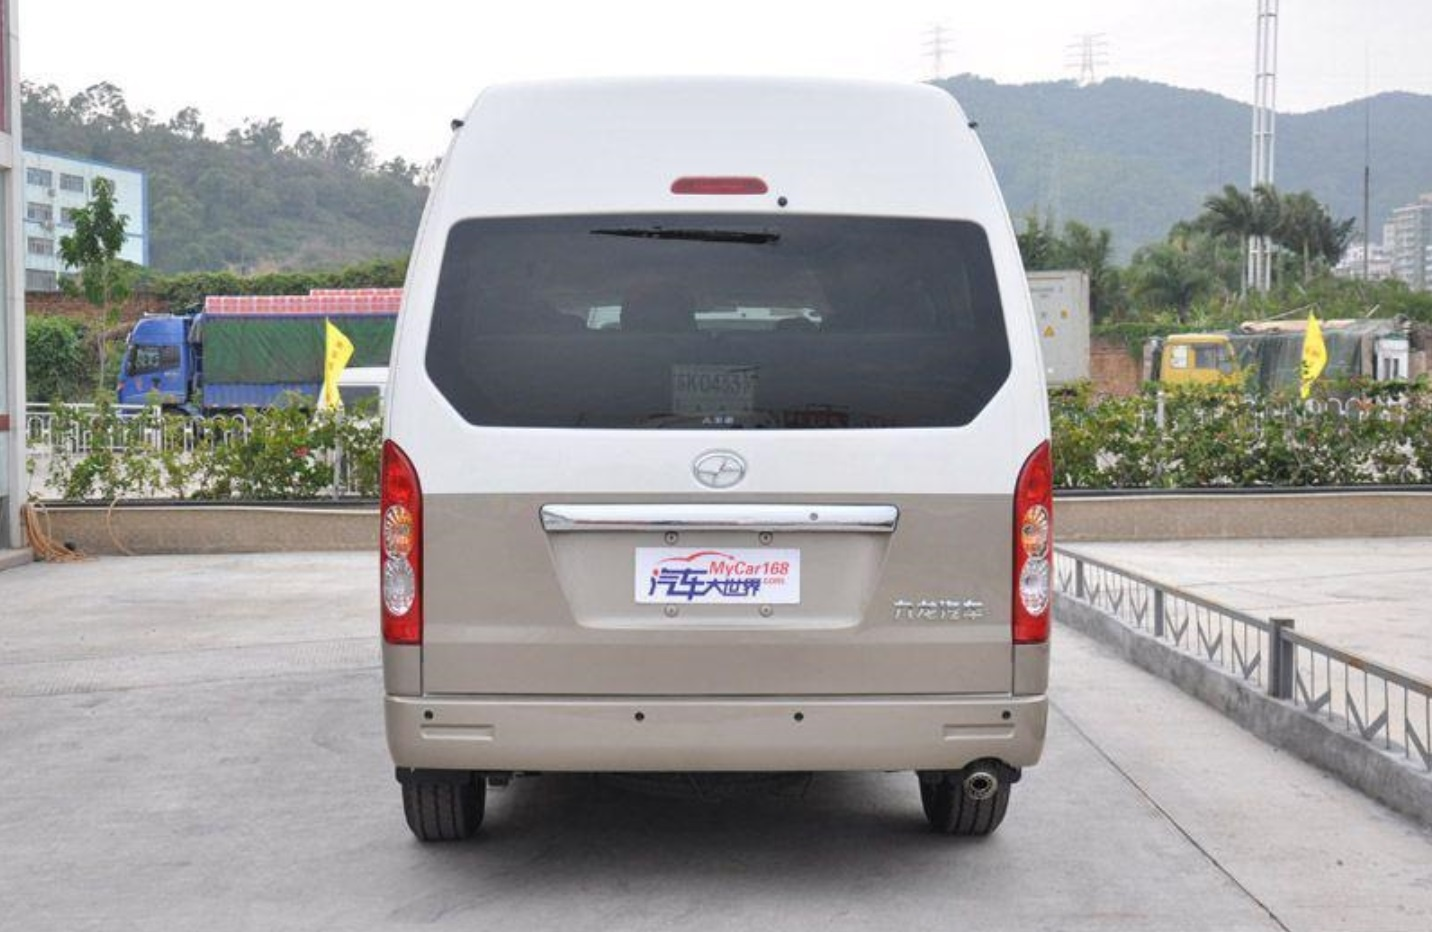minibus: (358, 62, 1124, 855)
